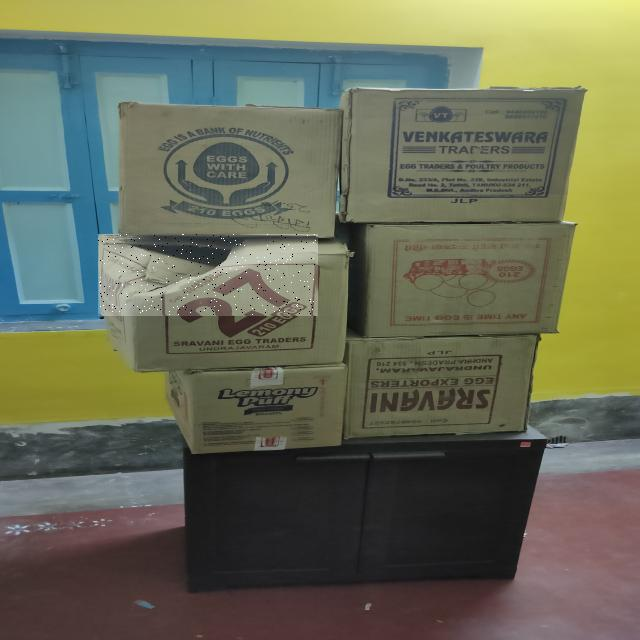tear: (99, 234, 316, 315)
